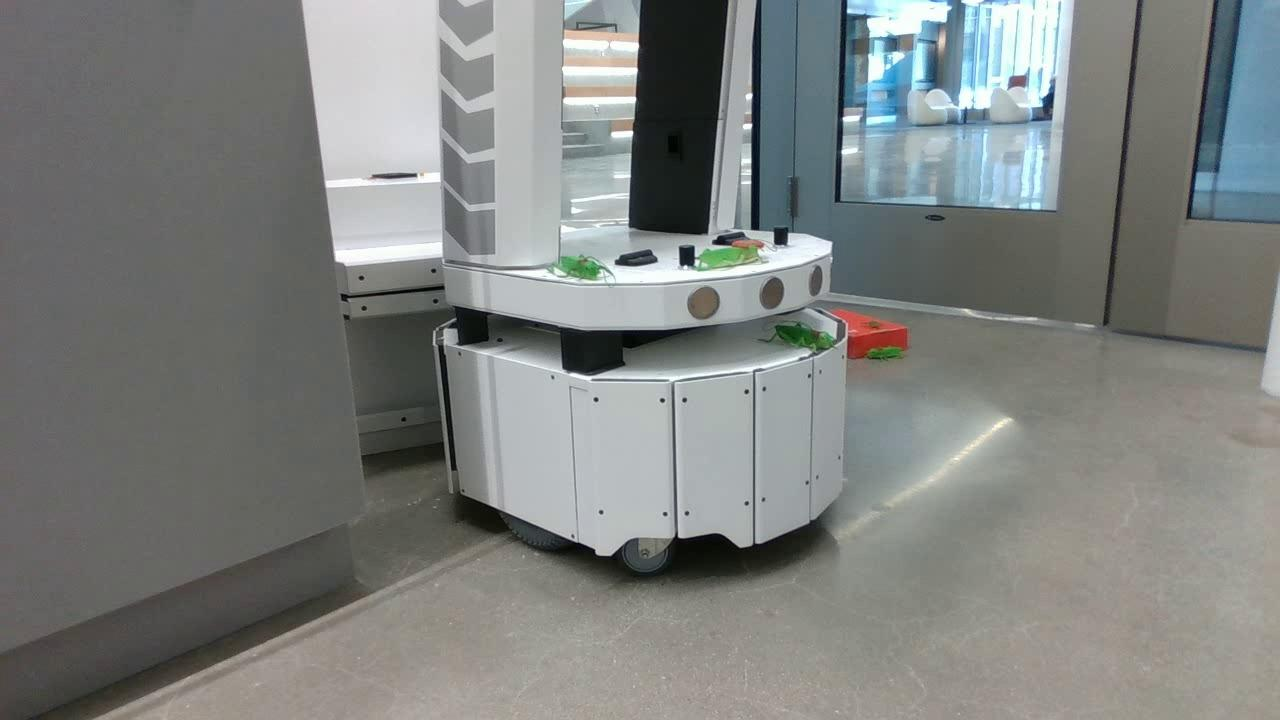grasshopper: (764, 324, 836, 360), (696, 242, 765, 274), (549, 257, 613, 286), (861, 346, 905, 359)
